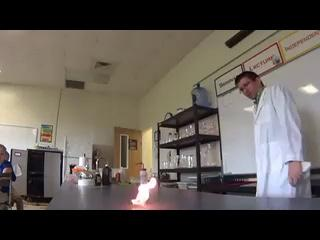Fire: (130, 174, 163, 205)
